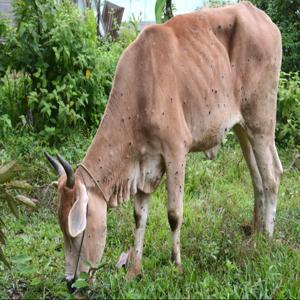lumpy skin diesease: (43, 0, 284, 299)
